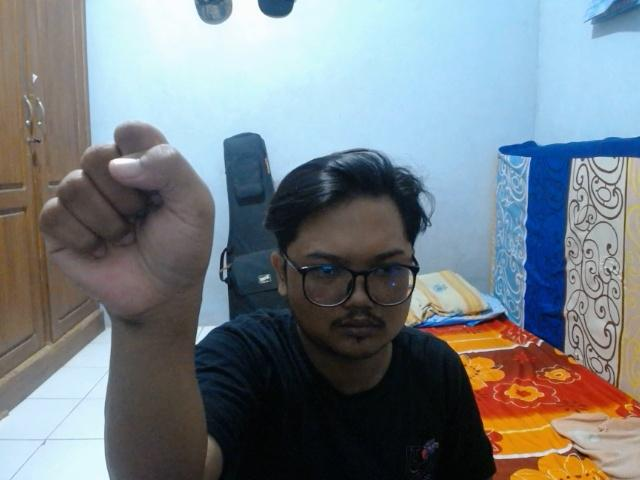Grab: (32, 116, 222, 339)
